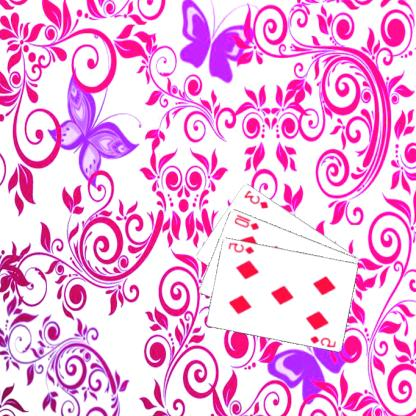10D: (233, 212, 262, 231)
3D: (243, 187, 271, 210)
5D: (227, 240, 257, 256), (309, 333, 339, 349)
